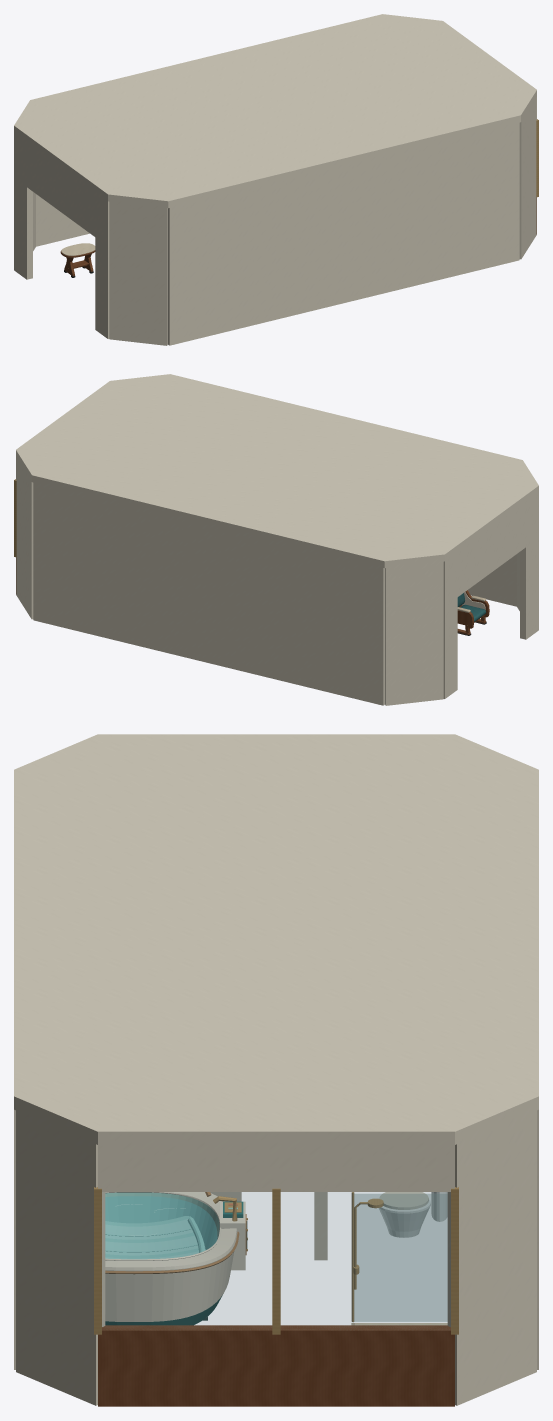
Rendered from D04_PORT_FORWARD_HOME_994_r001.glb.
The picture shows the model from 3 angles, top to bottom: view 1: azimuth 30°, elevation 25°; view 2: azimuth 150°, elevation 25°; view 3: azimuth 270°, elevation 25°; orthographic projection. The views are drawn at different scales.
Parts seen in each view (by area): view 1: D04H994_Roof, D04H994_Shell_3, D04H994_Shell_2, D04H994_EntryHeader, D04H994_Shell_4, D04H994_EntryWall_0, D04H994_EntryWall_1, D04H994_Shell_7; view 2: D04H994_Roof, D04H994_Shell_7, D04H994_Shell_0, D04H994_EntryHeader, D04H994_Shell_6, D04H994_EntryWall_1, D04H994_EntryWall_0, D04H994_Shell_3; view 3: D04H994_Roof, D04H994_GardenGlass, D04H994_GardenDado, D04H994_Shell_4, D04H994_Shell_6, D04H994_GardenHead, D04H994_ReservedAquaticRest_2__Hollow continuous basin shell, D04H994_Shower__SHW_SideGlass, D04H994_ReservedAquaticRest_2__WaterSurface_VisualOnly, D04H994_ReservedAquaticRest_2__Contoured broad immersed rest, D04H994_WindowMullion_1, D04H994_WindowMullion_0 (+4 smaller).
Part boxes in pixels (box(x1,y1,x2,y2)): D04H994_Roof: box(14, 14, 536, 208); D04H994_Shell_3: box(168, 122, 519, 345); D04H994_Shell_2: box(109, 201, 167, 345); D04H994_EntryHeader: box(27, 142, 95, 236); D04H994_Shell_4: box(519, 98, 536, 259); D04H994_EntryWall_0: box(14, 133, 32, 279); D04H994_EntryWall_1: box(95, 192, 109, 338); D04H994_Shell_7: box(36, 194, 89, 246); D04H994_Roof: box(16, 374, 538, 568); D04H994_Shell_7: box(33, 482, 384, 705); D04H994_Shell_0: box(385, 561, 443, 705); D04H994_EntryHeader: box(457, 502, 525, 596); D04H994_Shell_6: box(16, 458, 33, 619); D04H994_EntryWall_1: box(520, 493, 538, 639); D04H994_EntryWall_0: box(443, 552, 457, 698); D04H994_Shell_3: box(468, 554, 516, 606); D04H994_Roof: box(14, 734, 538, 1144); D04H994_GardenGlass: box(103, 1192, 450, 1329); D04H994_GardenDado: box(98, 1325, 454, 1406); D04H994_Shell_4: box(16, 1110, 105, 1405); D04H994_Shell_6: box(447, 1110, 536, 1405); D04H994_GardenHead: box(98, 1145, 454, 1191); D04H994_ReservedAquaticRest_2__Hollow continuous basin shell: box(105, 1192, 237, 1325); D04H994_Shower__SHW_SideGlass: box(354, 1194, 447, 1321); D04H994_ReservedAquaticRest_2__WaterSurface_VisualOnly: box(105, 1196, 217, 1258); D04H994_ReservedAquaticRest_2__Contoured broad immersed rest: box(105, 1216, 198, 1259); D04H994_WindowMullion_1: box(272, 1188, 280, 1334); D04H994_WindowMullion_0: box(451, 1187, 458, 1334).
Size of the model in its own units: 12.93 by 4.16 by 7.2.
50 materials, 20 textured.
